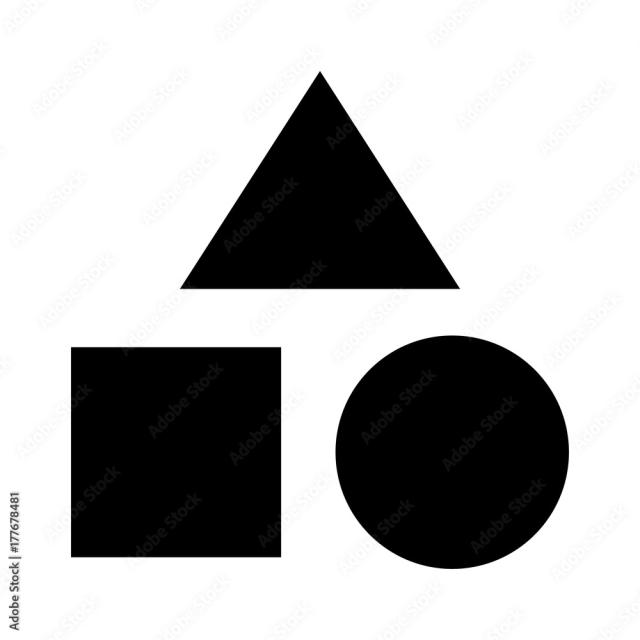circle: (319, 308, 576, 596)
square: (55, 320, 304, 602)
triangle: (174, 46, 471, 308)
